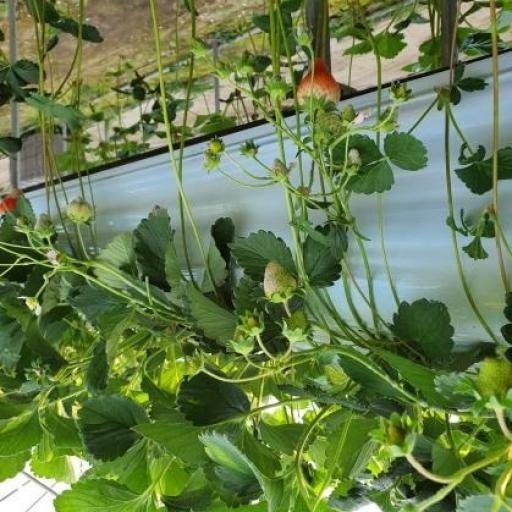Powdery Mildew Fruit: (263, 210, 297, 253)
